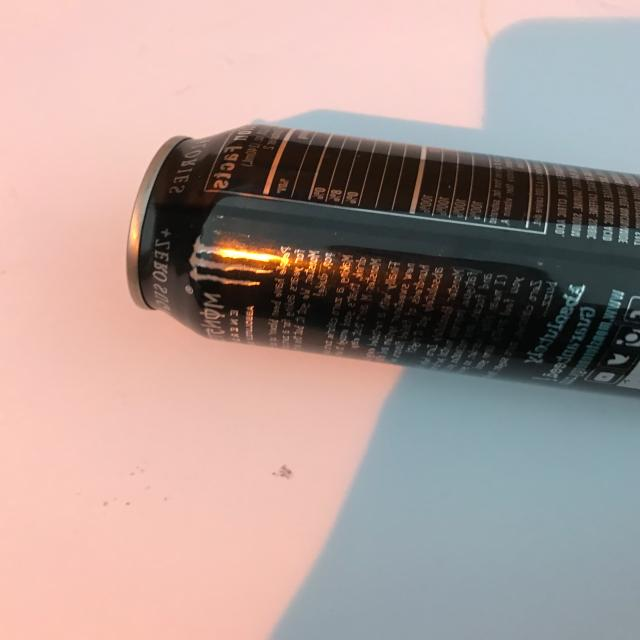metal: (126, 122, 640, 399)
